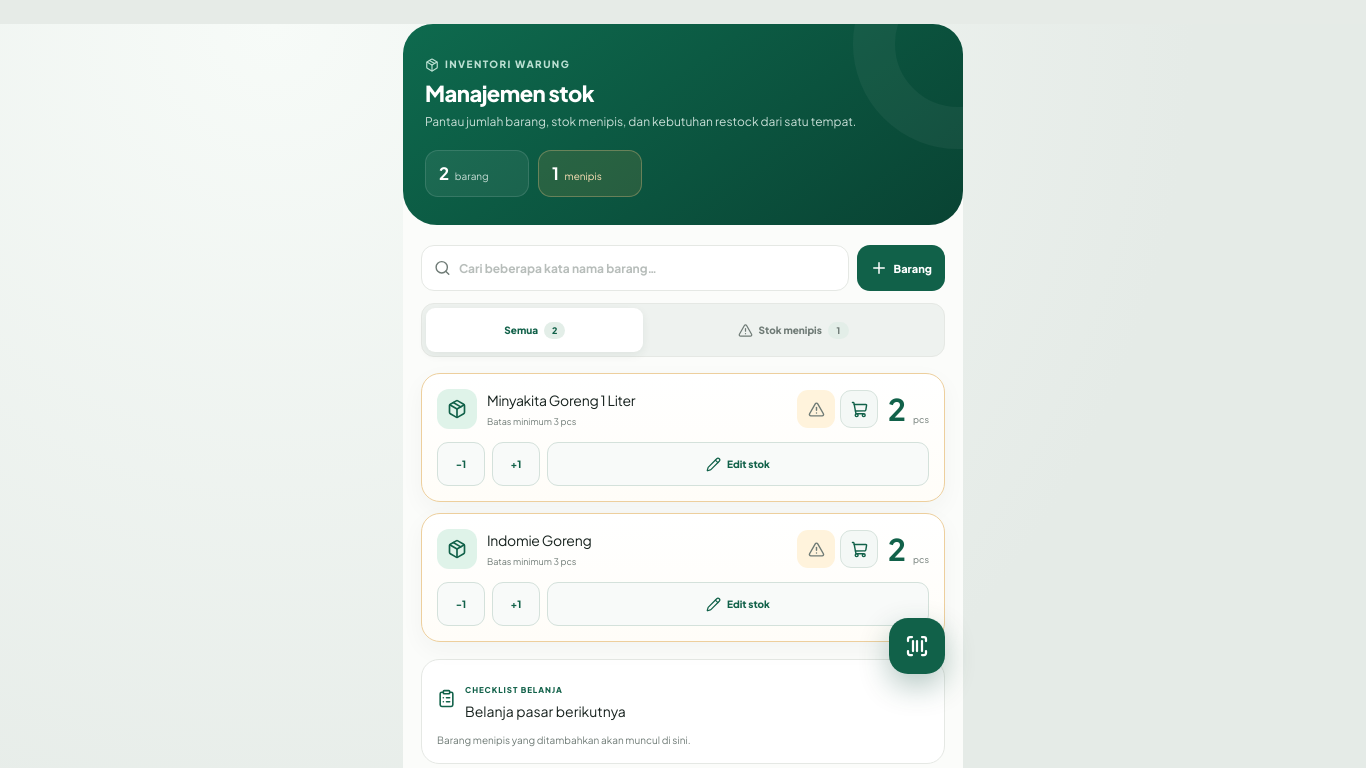
Test: InventoryDashboard › finds stock using broader token matching and offers typo suggestions
Type "goreng minyak" into the search field named "Cari nama barang".
click(647, 268); type("goreng minyak")  # box [459,261,836,276]
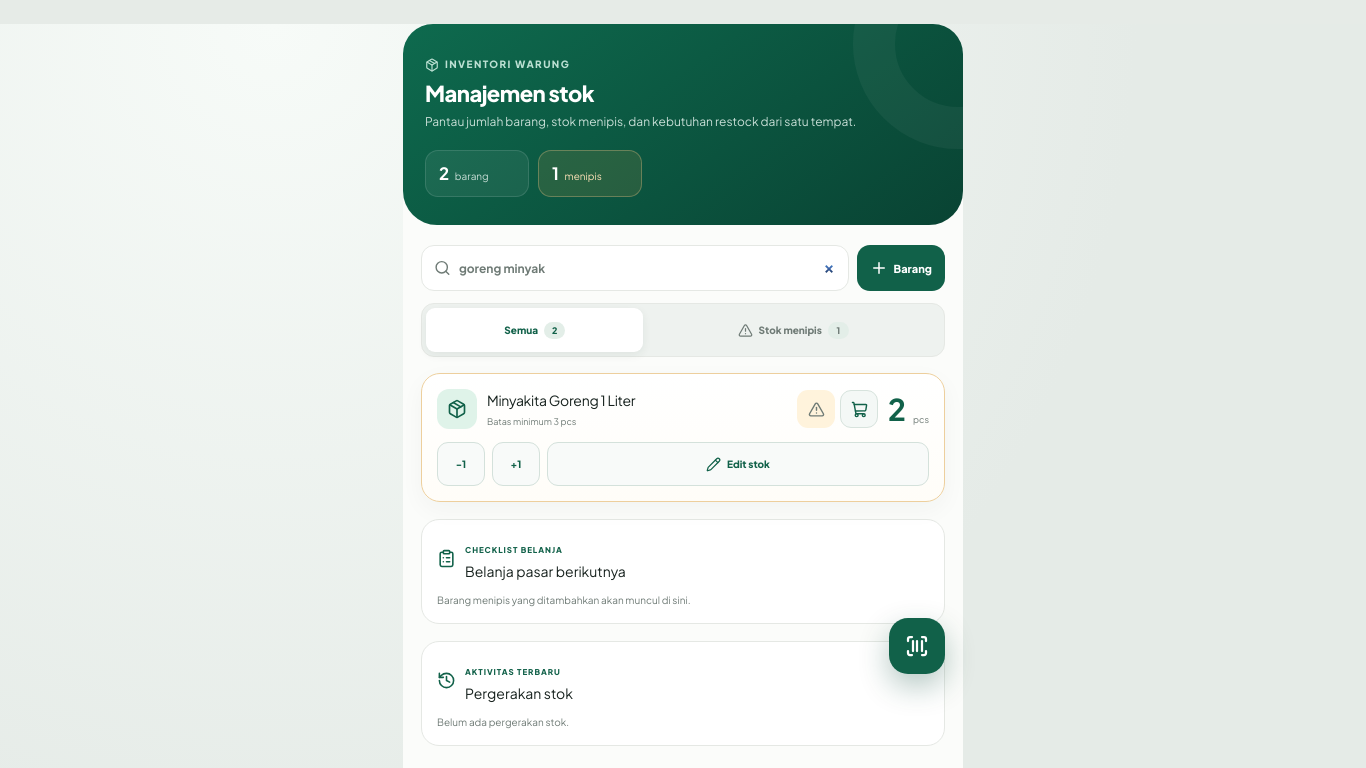
expect the heading "Minyakita Goreng 1 Liter" is shown: met, box [487,391,635,409]
expect the heading "Indomie Goreng" is gone: met
Replace the text in the search field named "Cari nama barang" with "minykita" at (647, 268), box [459,261,836,276]
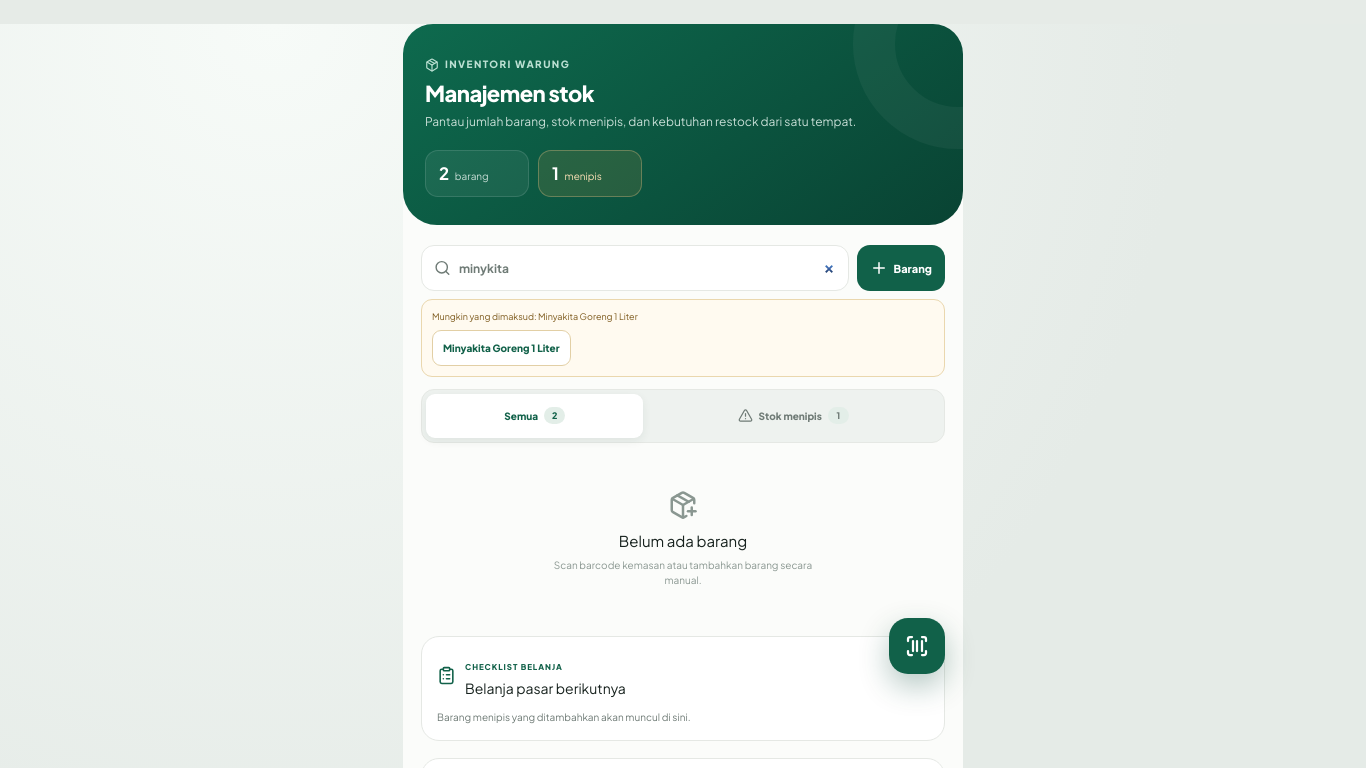
expect the text "Mungkin yang dimaksud: Minyakita Goreng 1 Liter" is shown: met, box [432,312,638,322]
